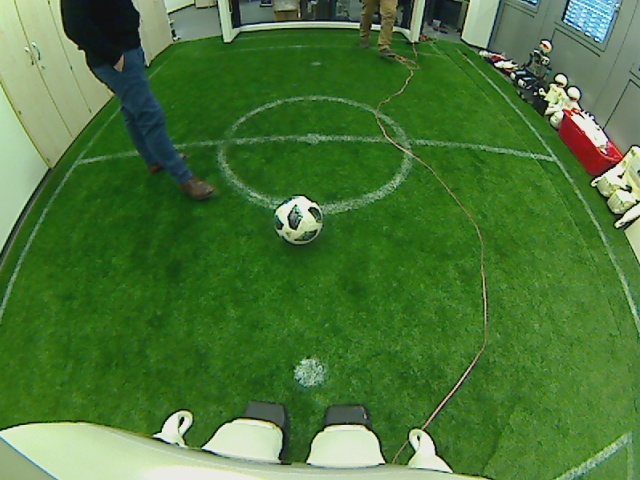ball: (273, 195, 324, 244)
